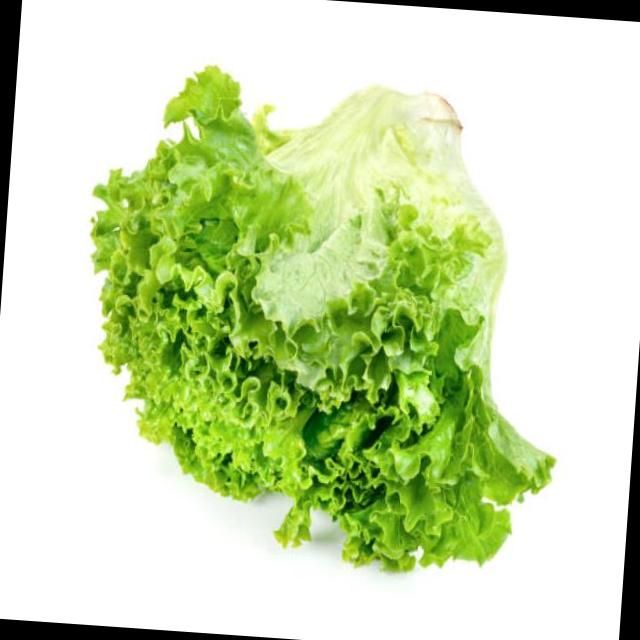Lettuce-Ready-to-Harvest: (87, 66, 557, 576)
